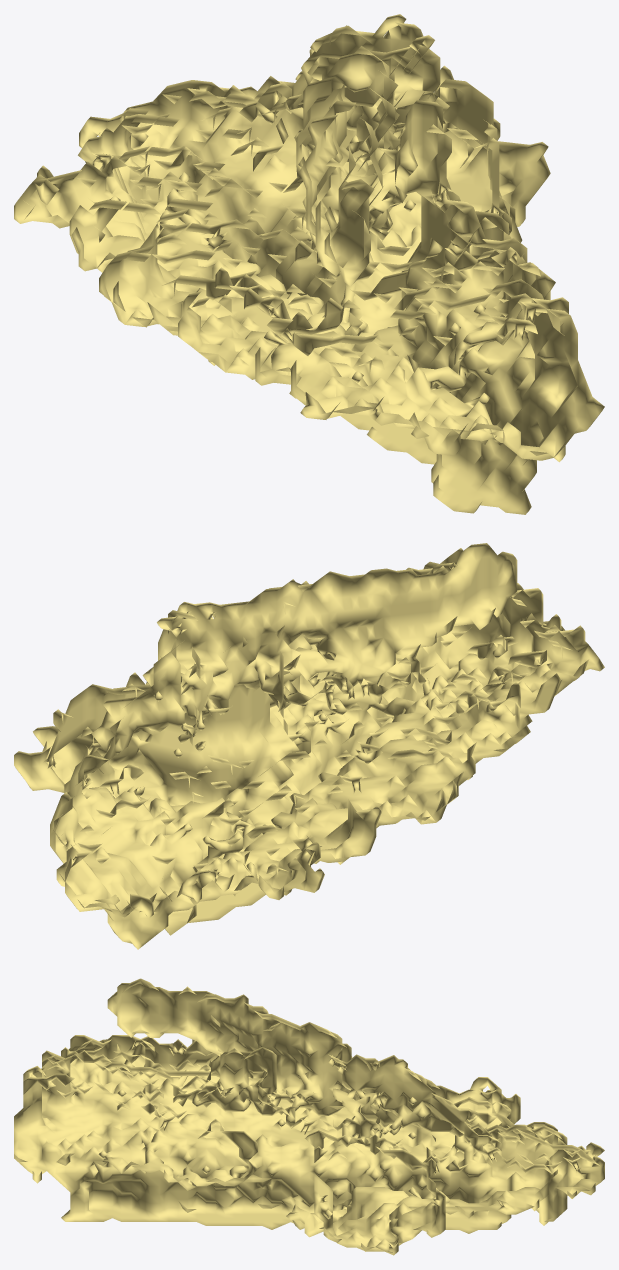
The model's file is osteocyte_28.glb.
3 views of the same model, one above another, from view 1: azimuth 30°, elevation 25°; view 2: azimuth 150°, elevation 25°; view 3: azimuth 270°, elevation 25° (orthographic). The views are drawn at different scales.
Parts seen in each view (by area): view 1: osteocyte_28; view 2: osteocyte_28; view 3: osteocyte_28.
Boxes of the visible parts, x1,y1,x2,y2 form: osteocyte_28: (14,14,604,514); osteocyte_28: (14,543,604,949); osteocyte_28: (14,978,604,1255).
Size of the model in its own units: 18.78 by 11.56 by 30.33.
